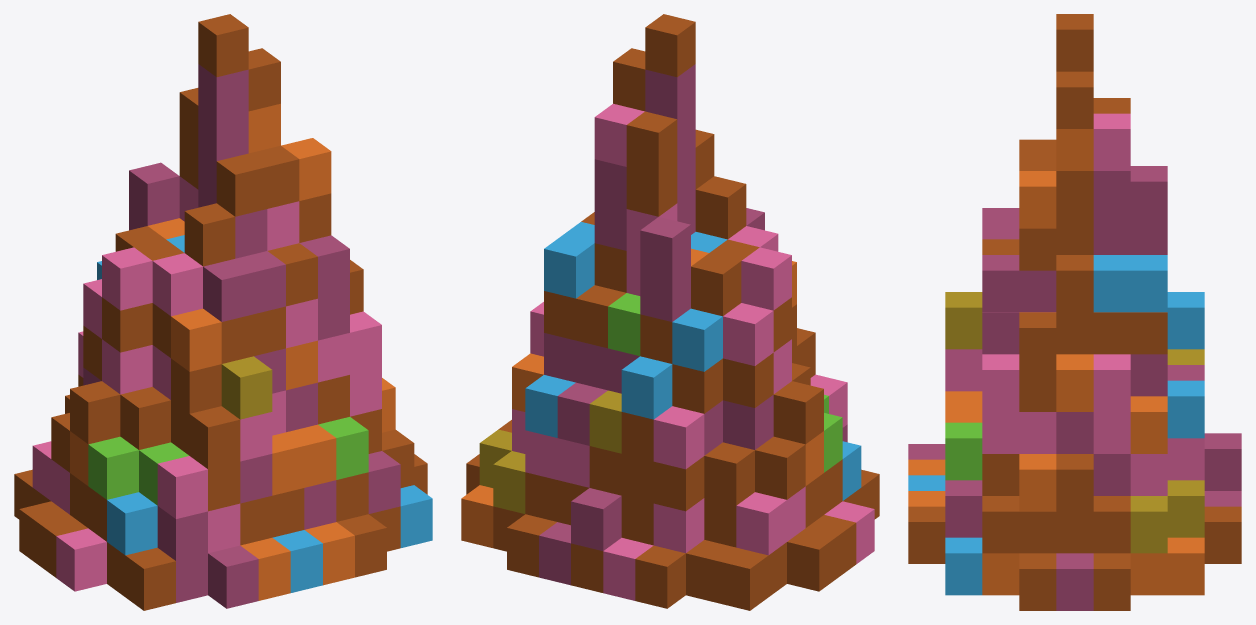
The model's file is DesertStackBig.obj.
3 views of the same model, side by side, from view 1: azimuth 30°, elevation 25°; view 2: azimuth 150°, elevation 25°; view 3: azimuth 270°, elevation 25° (orthographic).
Parts seen in each view (by area): view 1: DesertStackBig; view 2: DesertStackBig; view 3: DesertStackBig.
Part boxes in pixels (x1,y1,x2,y2): DesertStackBig: [14, 14, 432, 610]; DesertStackBig: [461, 14, 879, 610]; DesertStackBig: [908, 14, 1241, 610].
Bounding box in the file's own units: 22 × 30 × 18.
